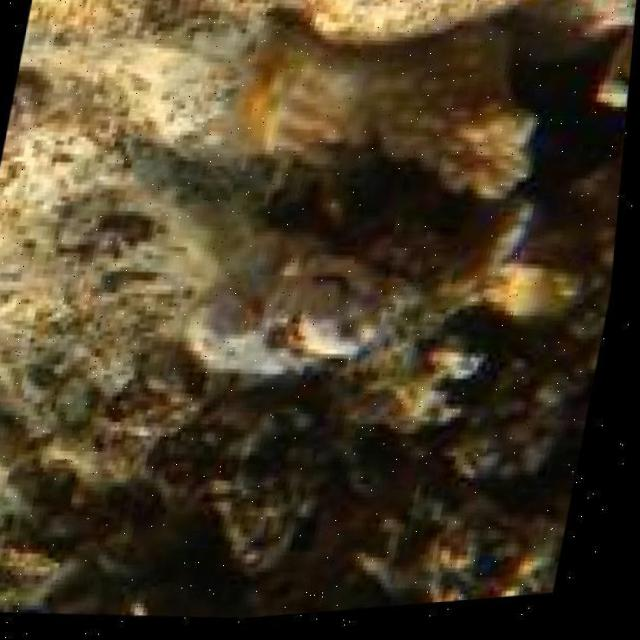Bleached Coral: (174, 240, 426, 398)
